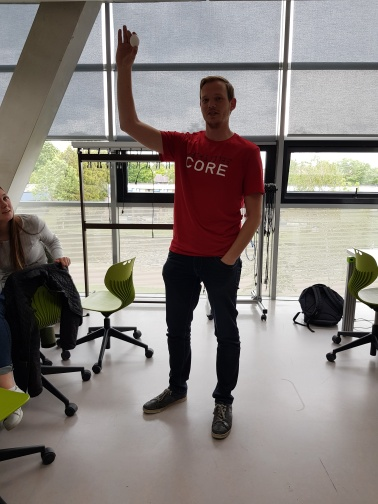egg: (130, 30, 141, 48)
